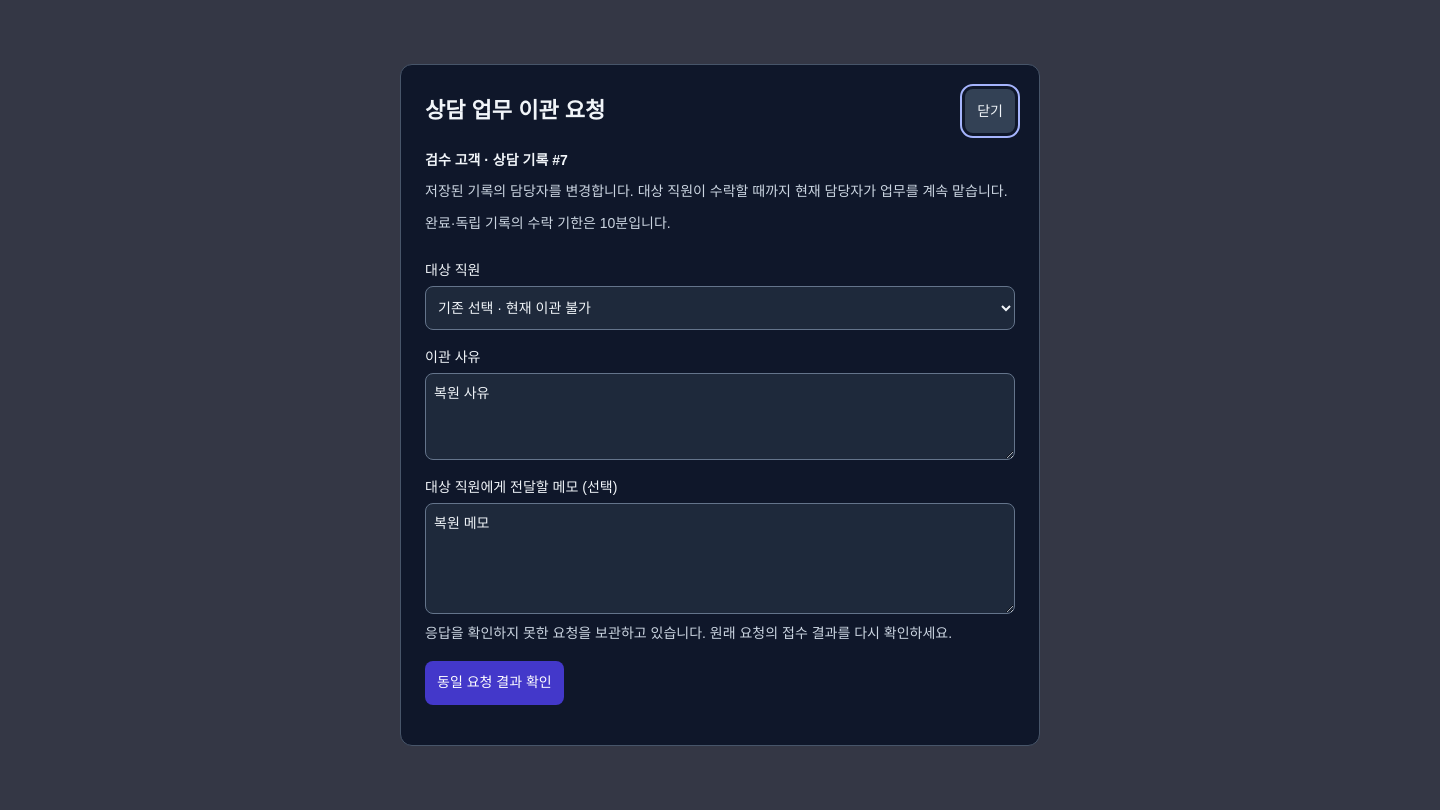
it: does not discard a pending request or create another when recovering it is denied
Click the button "동일 요청 결과 확인": {"x": 494, "y": 683} left=425, top=661, right=564, bottom=705
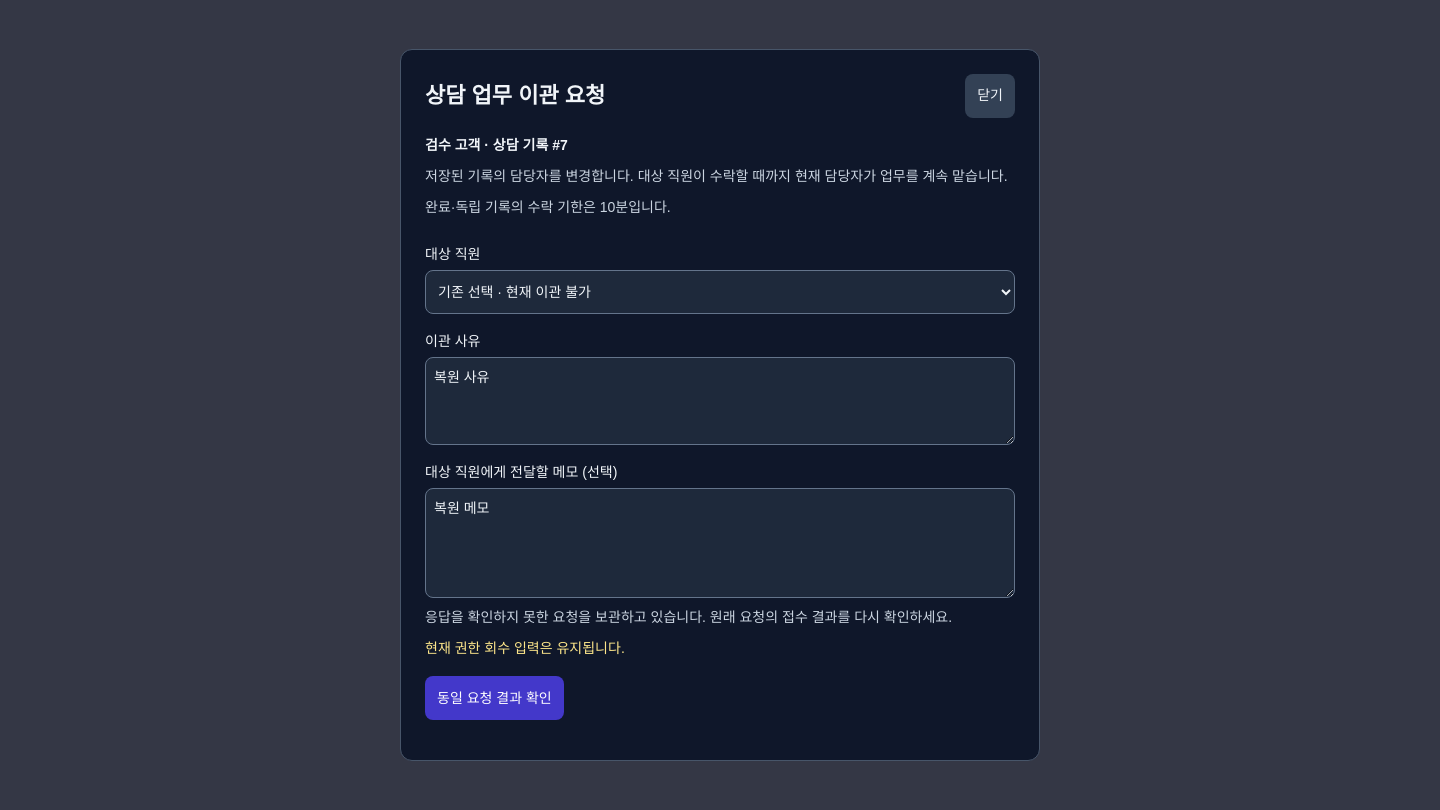
Now the message "현재 권한 회수 입력은 유지됩니다." is shown, box left=425, top=640, right=625, bottom=656
